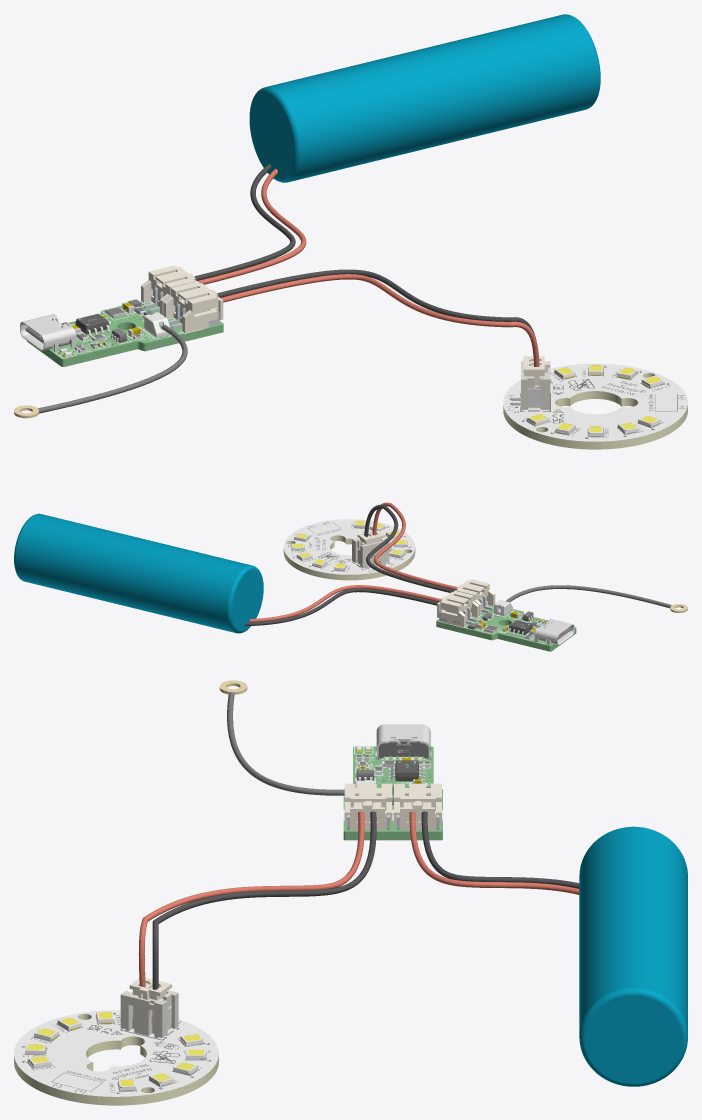
The model's file is 201 LC assembled.glb.
3 views of the same model, one above another, from view 1: azimuth 30°, elevation 25°; view 2: azimuth 150°, elevation 25°; view 3: azimuth 270°, elevation 25° (orthographic). The views are drawn at different scales.
Parts seen in each view (by area): view 1: Node30, Node6, Node26, Node29, Node7, Node28, Node31, Node18, Node2, Node35, Node33; view 2: Node30, Node6, Node26, Node28, Node29, Node7, Node2, Node31, Node18, Node35, Node33, Node4; view 3: Node30, Node6, Node26, Node29, Node28, Node31, Node2, Node7, Node35, Node18, Node33.
Part boxes in pixels (x1=…): Node30: x1=249, y1=14, x2=600, y2=182; Node6: x1=59, y1=318, x2=687, y2=441; Node26: x1=141, y1=265, x2=547, y2=385; Node29: x1=197, y1=168, x2=539, y2=366; Node7: x1=27, y1=302, x2=223, y2=366; Node28: x1=195, y1=164, x2=536, y2=360; Node31: x1=503, y1=373, x2=687, y2=449; Node18: x1=20, y1=314, x2=540, y2=411; Node2: x1=25, y1=313, x2=594, y2=436; Node35: x1=521, y1=361, x2=550, y2=409; Node33: x1=530, y1=365, x2=661, y2=432; Node30: x1=14, y1=513, x2=263, y2=633; Node6: x1=283, y1=519, x2=527, y2=628; Node26: x1=357, y1=530, x2=495, y2=627; Node28: x1=245, y1=504, x2=454, y2=625; Node29: x1=249, y1=502, x2=457, y2=622; Node7: x1=436, y1=605, x2=576, y2=651; Node2: x1=302, y1=541, x2=671, y2=639; Node31: x1=283, y1=535, x2=415, y2=580; Node18: x1=356, y1=548, x2=574, y2=645; Node35: x1=352, y1=538, x2=389, y2=568; Node33: x1=293, y1=520, x2=405, y2=567; Node4: x1=371, y1=546, x2=548, y2=637; Node30: x1=579, y1=826, x2=687, y2=1086; Node6: x1=14, y1=746, x2=415, y2=1096; Node26: x1=129, y1=783, x2=441, y2=1023; Node29: x1=138, y1=811, x2=579, y2=987; Node28: x1=152, y1=811, x2=579, y2=989; Node31: x1=14, y1=1014, x2=218, y2=1105; Node2: x1=52, y1=692, x2=428, y2=1068; Node7: x1=343, y1=746, x2=442, y2=840; Node35: x1=120, y1=990, x2=178, y2=1038; Node18: x1=166, y1=724, x2=430, y2=1035; Node33: x1=27, y1=1012, x2=203, y2=1086.
Bounding box in the file's own units: 158 × 34.53 × 112.
